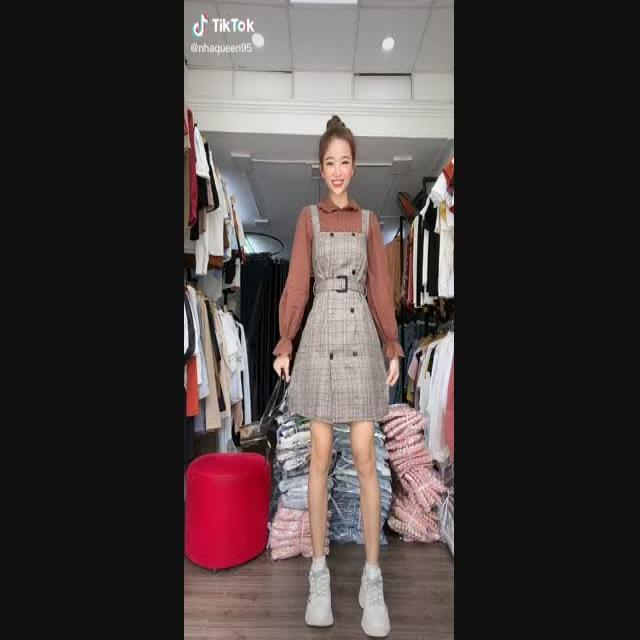clothes: (272, 200, 403, 420)
